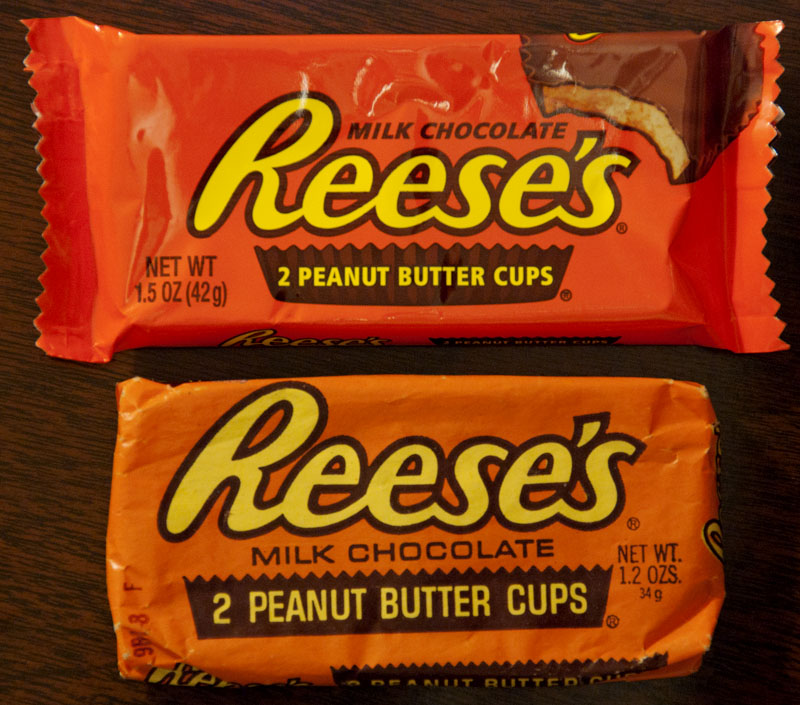reese: (18, 20, 786, 358)
